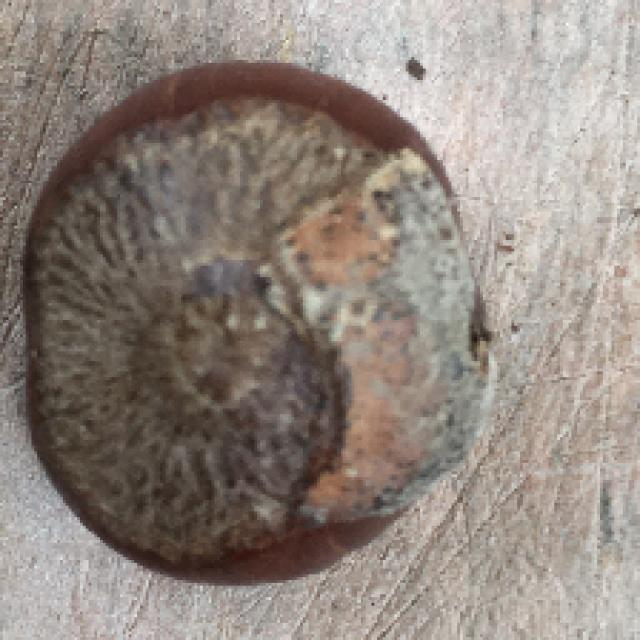damagedHazelnut: (14, 61, 489, 595)
